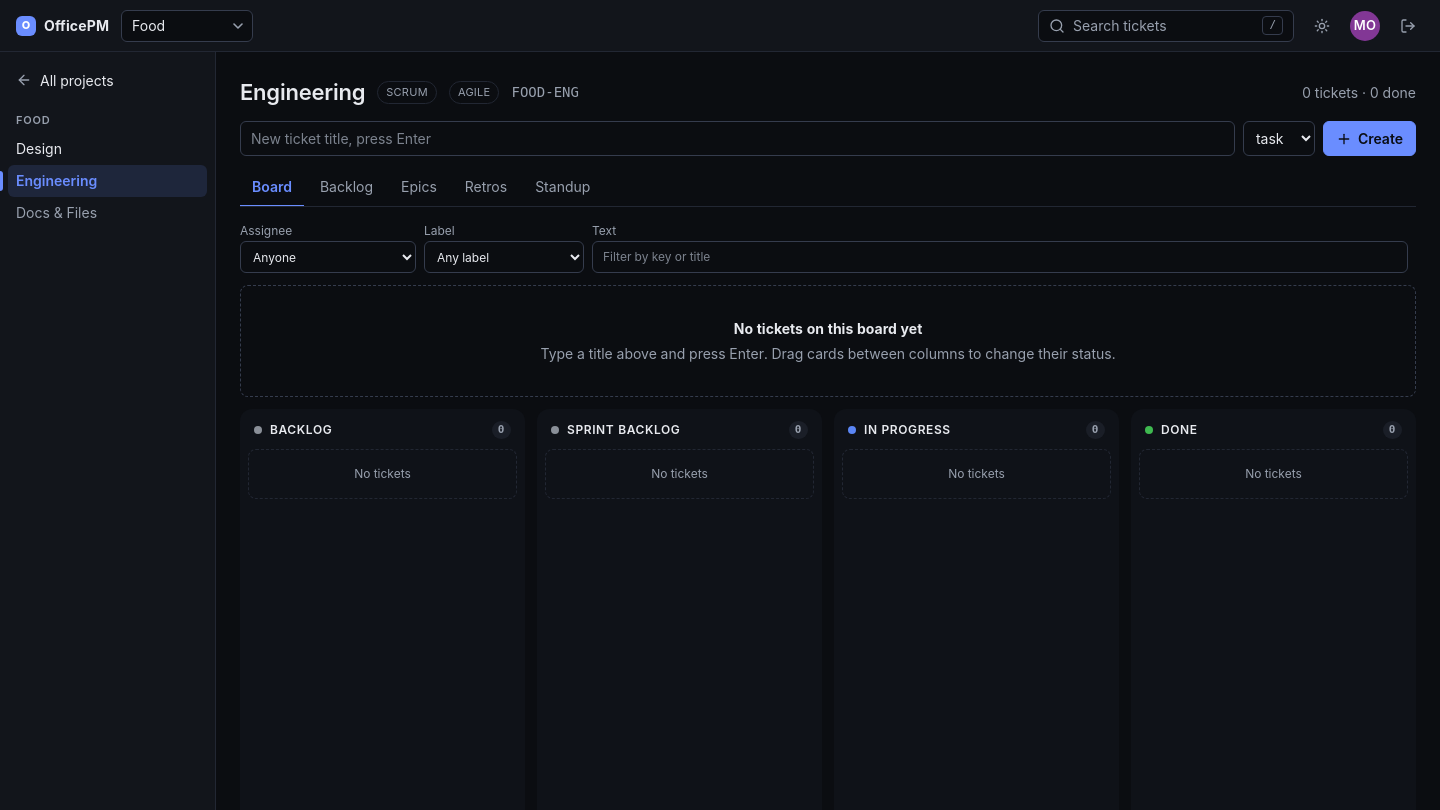
board quick-add › shows the server message inline and keeps the title when it is rejected
The image size is (1440, 810).
Type "Add a login" into the field labelled "New ticket title" at x=737, y=138, box [240,121,1235,156]
Then press Enter
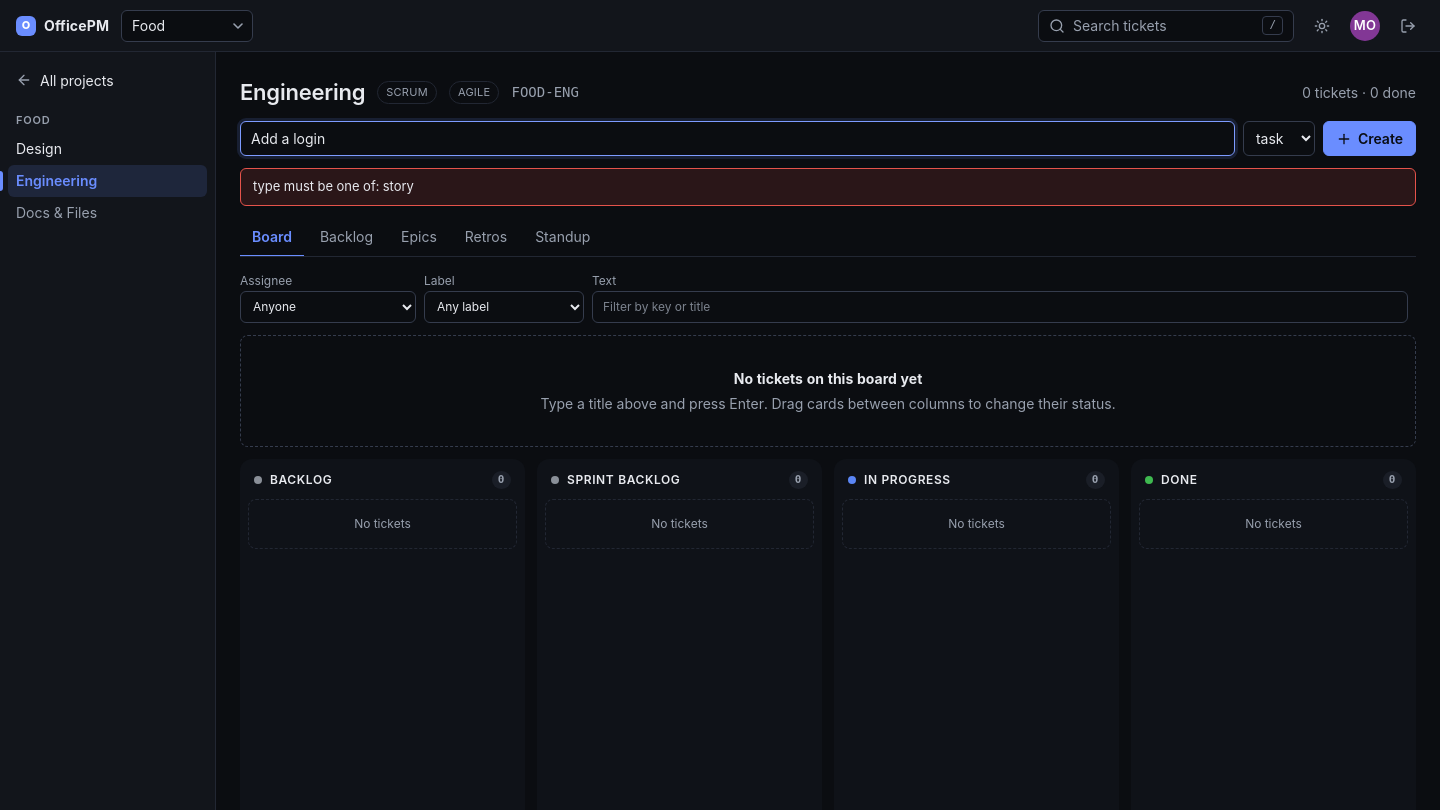
Expected: the message reads "type must be one of: story", [253,178,414,194]
